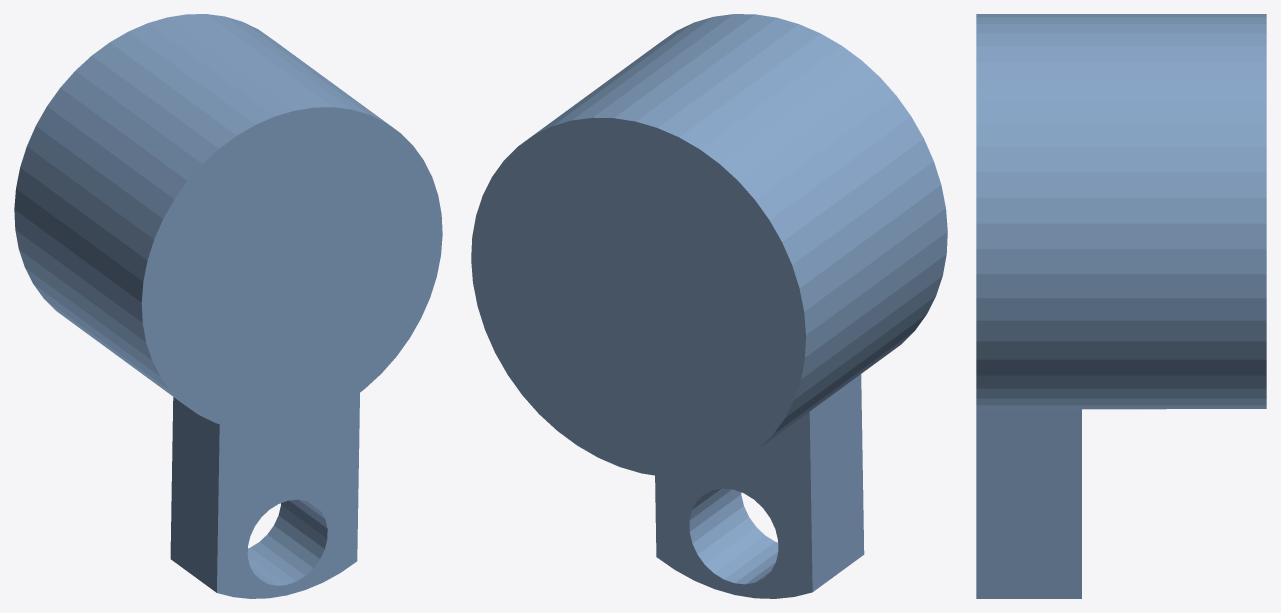
Rendered from feeder_servo_arm.glb.
3 renders of one model, left to right at view 1: azimuth 30°, elevation 25°; view 2: azimuth 150°, elevation 25°; view 3: azimuth 270°, elevation 25°, orthographic. The views are drawn at different scales.
Visible parts, largest first — view 1: pt_61#0; view 2: pt_61#0; view 3: pt_61#0.
Part boxes in pixels (left/top/right/bottom): pt_61#0: left=14, top=14, right=442, bottom=598; pt_61#0: left=471, top=14, right=947, bottom=598; pt_61#0: left=976, top=14, right=1266, bottom=598.
Bounding box in the file's own units: 0.0075 × 0.0115 × 0.0055.
